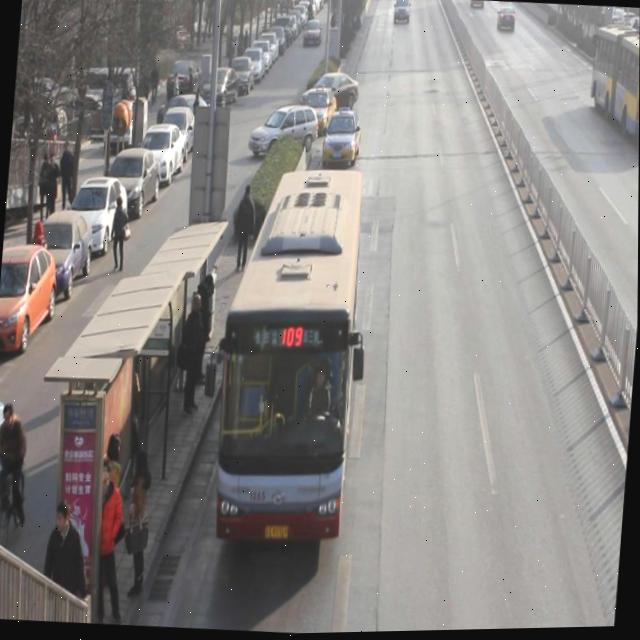car: (248, 103, 320, 159), (322, 103, 363, 169), (303, 69, 360, 115), (301, 85, 339, 133), (496, 7, 516, 32)
van: (209, 168, 366, 549), (583, 25, 640, 145)
